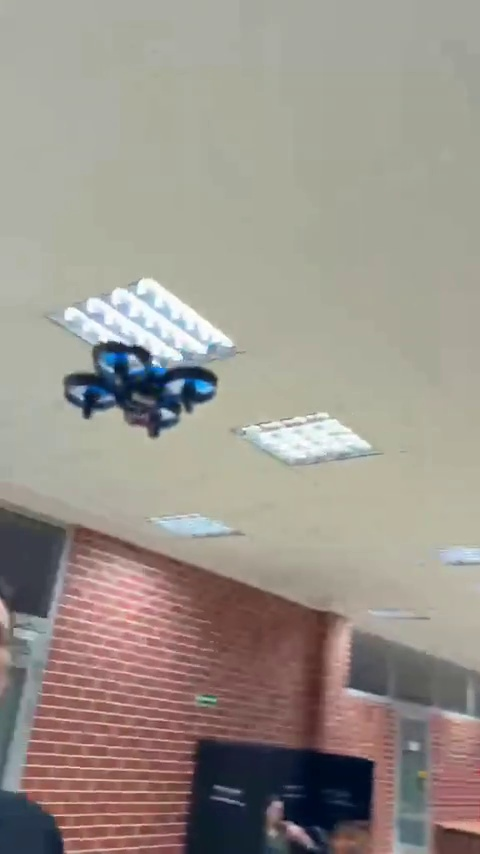drone: (55, 339, 219, 428)
